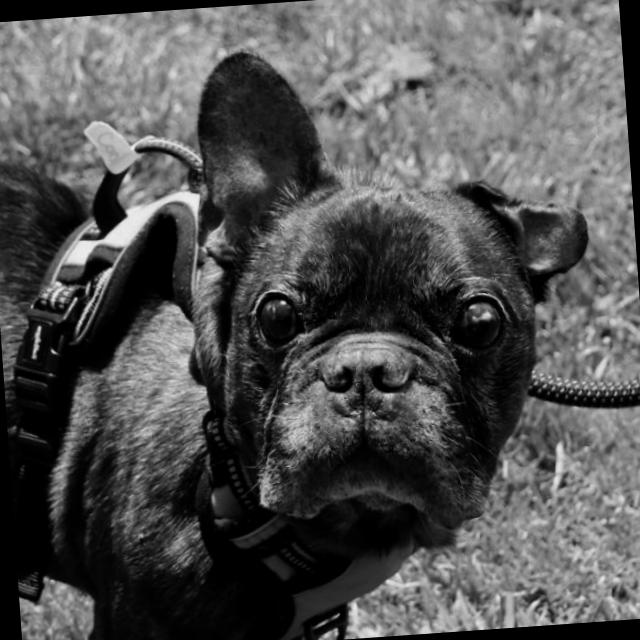french_bulldog_dog: (134, 25, 604, 578)
